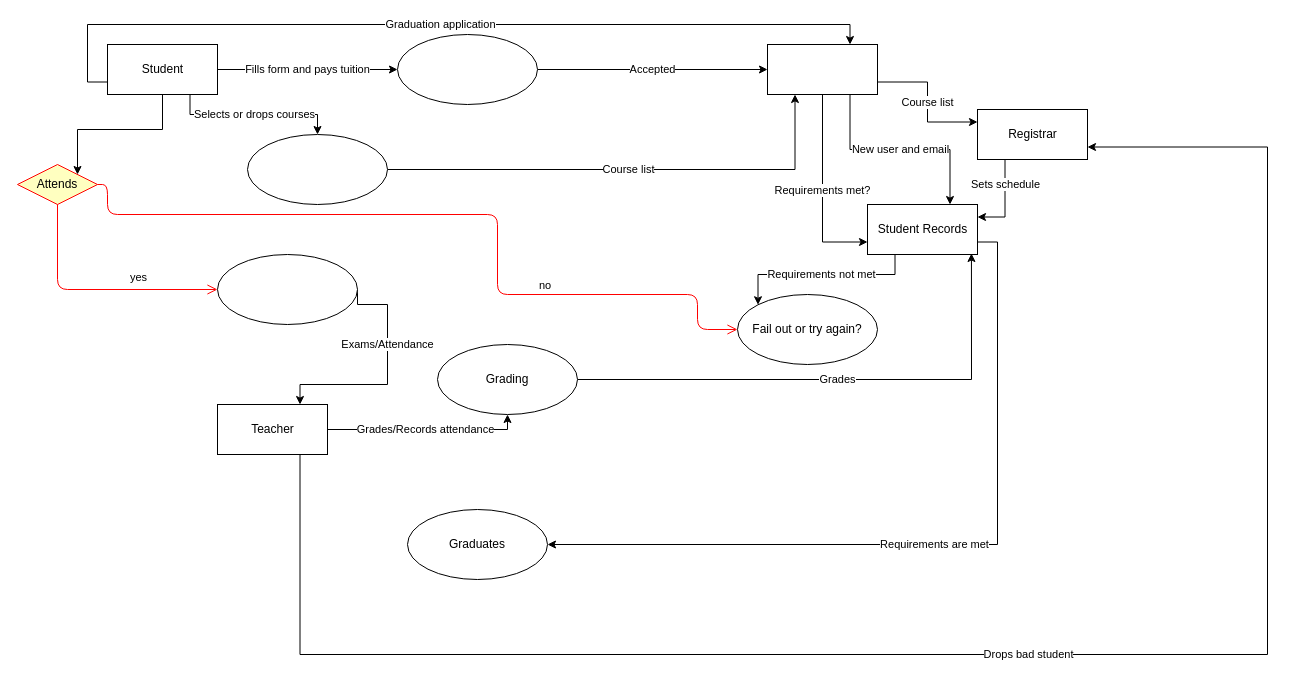
Some shapes in this 1293 by 680 pixel diagram are drawn without their labels. The centre of each missing label's shape, as x and y in pixels:
"Application" belongs at (467,69).
"Classes" belongs at (287,289).
"College" belongs at (822,69).
"Regististration" belongs at (317,169).
